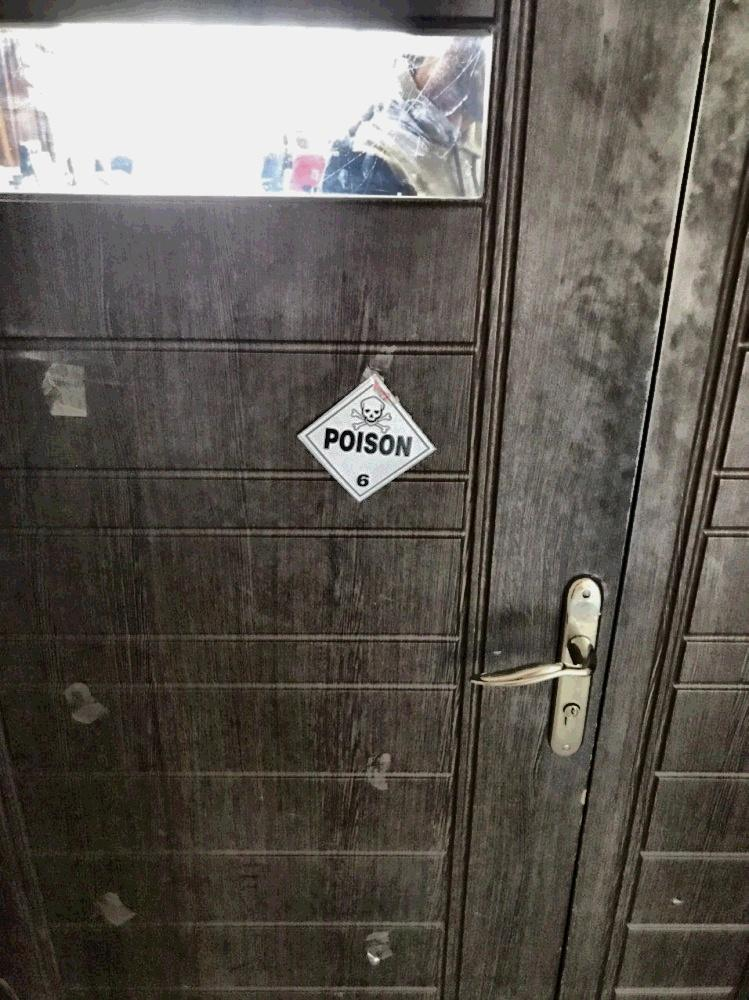poison: (295, 376, 436, 508)
